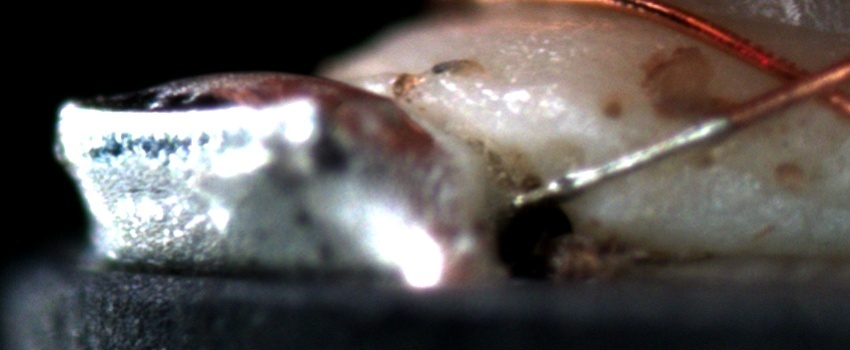CL: (756, 51, 848, 115)
TS: (510, 115, 732, 208)
TTCW: (512, 87, 779, 216)
